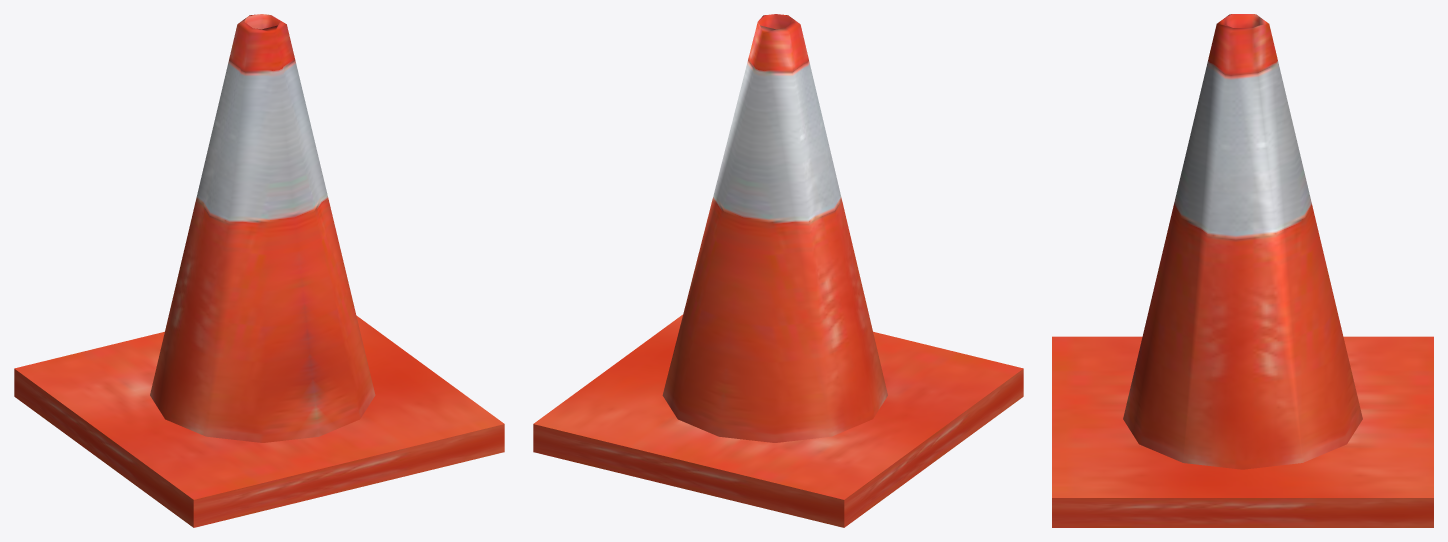
File: orangepylonB_3.fbx
3 renders of one model, left to right at view 1: azimuth 30°, elevation 25°; view 2: azimuth 150°, elevation 25°; view 3: azimuth 270°, elevation 25°, orthographic. The views are drawn at different scales.
Visible parts, largest first — view 1: ChamferTube01, Box01; view 2: ChamferTube01, Box01; view 3: ChamferTube01, Box01.
Part boxes in pixels (box(x1,y1,x2,y2)): ChamferTube01: box(150, 14, 375, 442); Box01: box(14, 315, 504, 527); ChamferTube01: box(662, 14, 887, 442); Box01: box(533, 314, 1023, 527); ChamferTube01: box(1123, 14, 1362, 469); Box01: box(1052, 336, 1433, 527).
Size of the model in its own units: 35.43 by 43.76 by 35.43.
